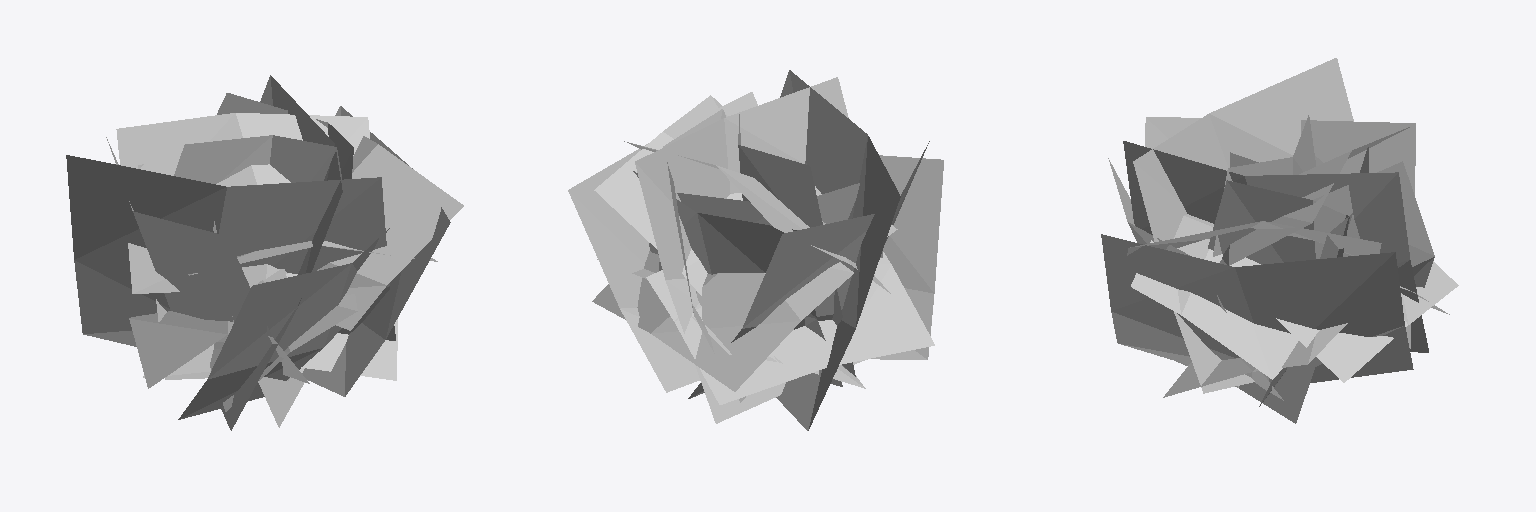
File: bush1.obj
The picture shows the model from 3 angles: view 1: azimuth 30°, elevation 25°; view 2: azimuth 150°, elevation 25°; view 3: azimuth 270°, elevation 25°; orthographic projection.
Visible parts, largest first — view 1: Bush-01; view 2: Bush-01; view 3: Bush-01.
Boxes of the visible parts, x1=… form: Bush-01: x1=66, y1=75, x2=463, y2=430; Bush-01: x1=568, y1=70, x2=943, y2=430; Bush-01: x1=1101, y1=58, x2=1458, y2=423.
Bounding box in the file's own units: 1.63 × 1.16 × 1.57.